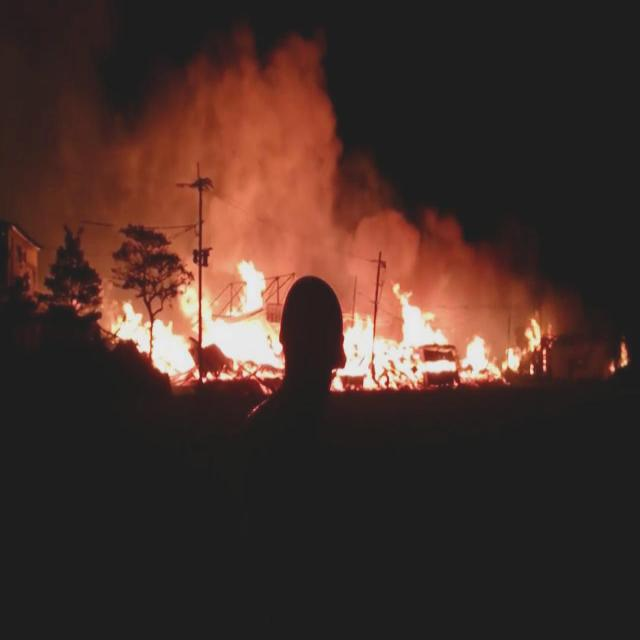fire: (119, 276, 267, 378), (360, 312, 500, 370)
smoke: (162, 96, 332, 254), (363, 220, 467, 314)
